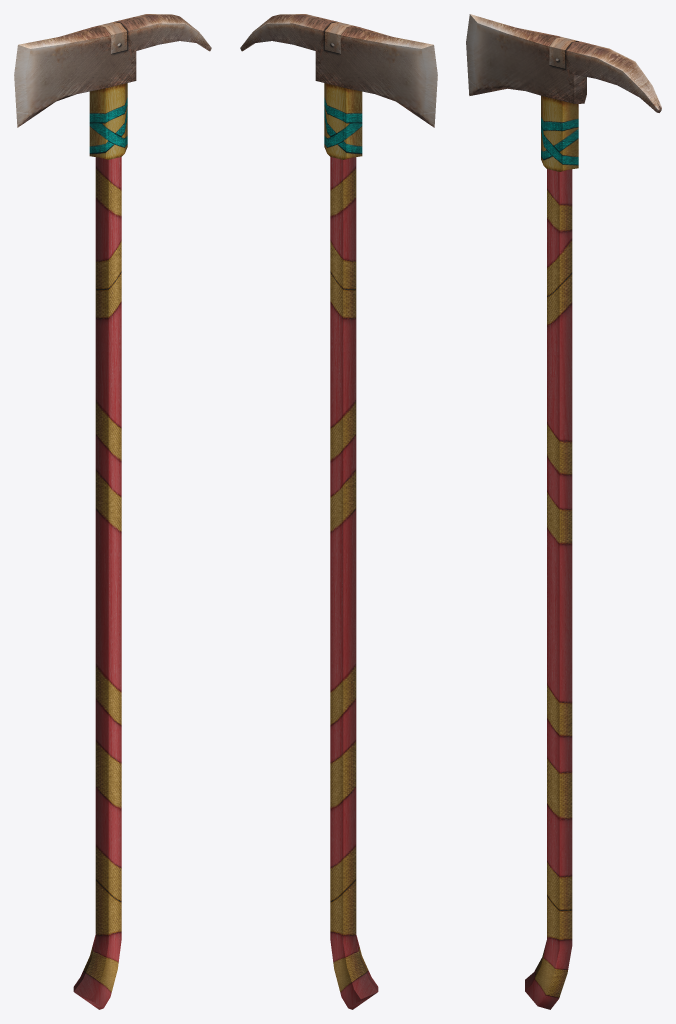
Rendered from Length_Axe.fbx.
The picture shows the model from 3 angles, left to right: view 1: azimuth 30°, elevation 25°; view 2: azimuth 150°, elevation 25°; view 3: azimuth 330°, elevation 25°; orthographic projection.
Visible parts, largest first — view 1: axe; view 2: axe; view 3: axe.
Part boxes in pixels (box(x1,y1,x2,y2)): axe: box(14, 14, 211, 1009); axe: box(240, 14, 437, 1009); axe: box(466, 14, 661, 1009).
Bounding box in the file's own units: 0.0284 × 0.1354 × 0.00433.
